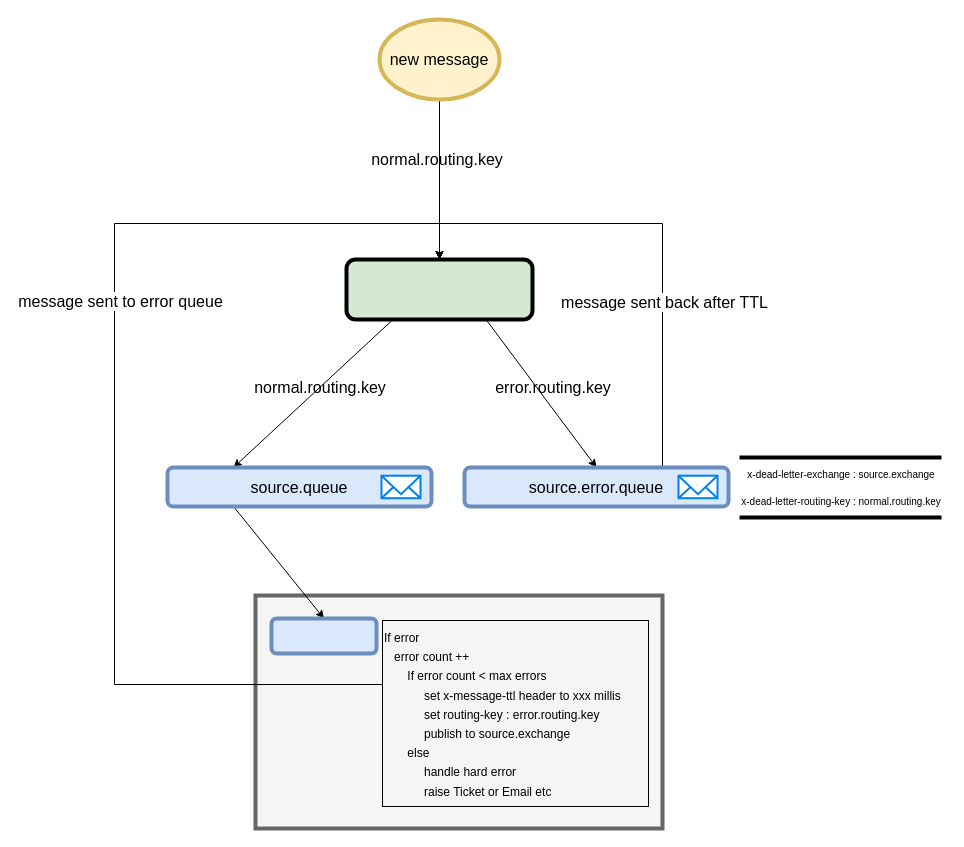
This 964x847 diagram has some shape labels left out. The shapes that lost their labels are listed below. From the top down, each one's centre as x and y in pixels, then its label:
At (439,289): "source.exchange".
At (323,635): "listener".
